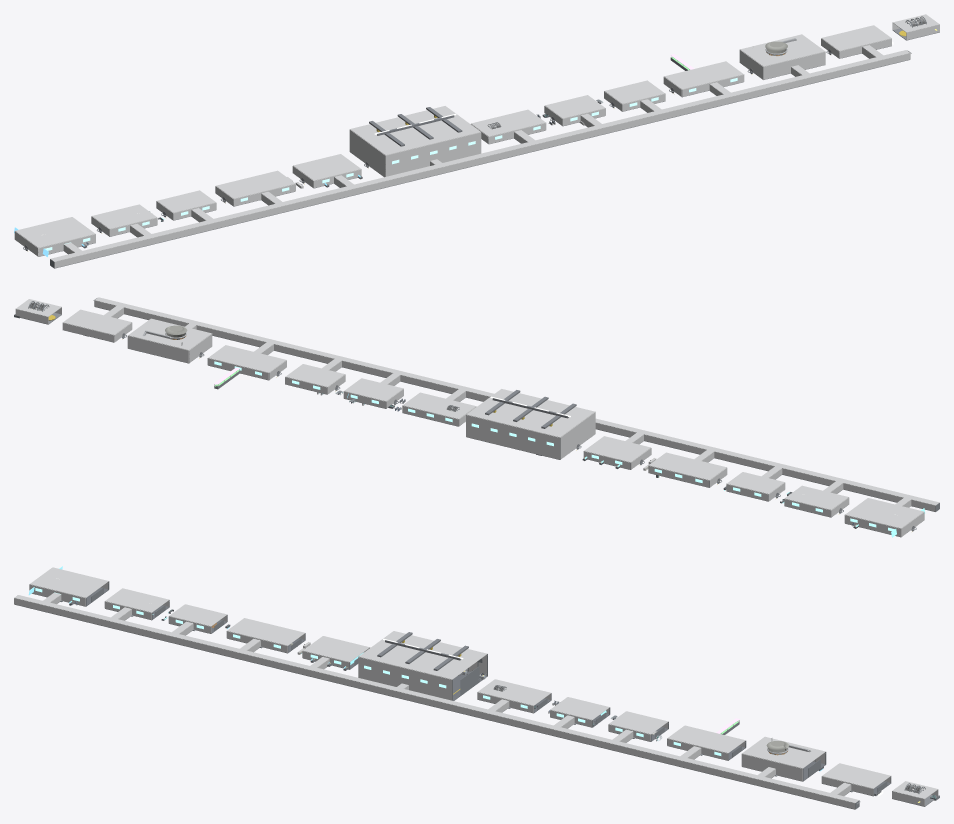
Rendered from dsx-03_interior_compartments.glb.
3 renders of one model, top to bottom at view 1: azimuth 30°, elevation 25°; view 2: azimuth 150°, elevation 25°; view 3: azimuth 330°, elevation 25°, orthographic.
Visible parts, largest first — view 1: INT_ServiceCorridor, INT_Hangar, INT_MainEngineering, INT_Bridge, INT_Hydroponics, INT_ScienceLab, INT_Quarters, INT_MissionOps, INT_MachineShop, INT_Navigation, INT_Wardroom, INT_Medbay (+2 smaller); view 2: INT_ServiceCorridor, INT_Hangar, INT_MainEngineering, INT_Bridge, INT_Hydroponics, INT_ScienceLab, INT_Quarters, INT_MissionOps, INT_MachineShop, INT_Navigation, INT_Wardroom, INT_Medbay (+2 smaller); view 3: INT_ServiceCorridor, INT_Hangar, INT_MainEngineering, INT_Bridge, INT_Hydroponics, INT_ScienceLab, INT_Quarters, INT_MachineShop, INT_MissionOps, INT_Navigation, INT_Wardroom, INT_Medbay (+2 smaller).
Part boxes in pixels (box(x1,y1,x2,y2)): INT_ServiceCorridor: box(50, 45, 911, 268); INT_Hangar: box(349, 106, 481, 177); INT_MainEngineering: box(739, 34, 825, 79); INT_Bridge: box(14, 217, 95, 257); INT_Hydroponics: box(663, 54, 744, 97); INT_ScienceLab: box(215, 170, 303, 206); INT_Quarters: box(471, 109, 555, 144); INT_MissionOps: box(292, 154, 362, 188); INT_MachineShop: box(821, 25, 893, 58); INT_Navigation: box(91, 204, 164, 236); INT_Wardroom: box(544, 95, 605, 126); INT_Medbay: box(604, 80, 665, 111); INT_ServiceCorridor: box(93, 297, 939, 511); INT_Hangar: box(466, 389, 595, 459); INT_MainEngineering: box(127, 318, 212, 363); INT_Bridge: box(844, 498, 925, 537); INT_Hydroponics: box(207, 345, 286, 389); INT_ScienceLab: box(643, 452, 727, 487); INT_Quarters: box(388, 392, 476, 426); INT_MissionOps: box(582, 436, 651, 469); INT_MachineShop: box(62, 309, 132, 342); INT_Navigation: box(780, 485, 849, 517); INT_Wardroom: box(335, 378, 403, 408); INT_Medbay: box(285, 364, 345, 395); INT_ServiceCorridor: box(14, 593, 860, 809); INT_Hangar: box(358, 631, 487, 700); INT_MainEngineering: box(741, 736, 826, 781); INT_Bridge: box(28, 566, 109, 606); INT_Hydroponics: box(667, 718, 746, 760); INT_ScienceLab: box(226, 618, 310, 654); INT_Quarters: box(477, 679, 559, 713); INT_MachineShop: box(821, 763, 891, 796); INT_MissionOps: box(302, 636, 370, 670); INT_Navigation: box(104, 588, 173, 620); INT_Wardroom: box(550, 697, 617, 727); INT_Medbay: box(608, 711, 668, 741).
Size of the model in its own units: 382 by 14.06 by 43.84.
